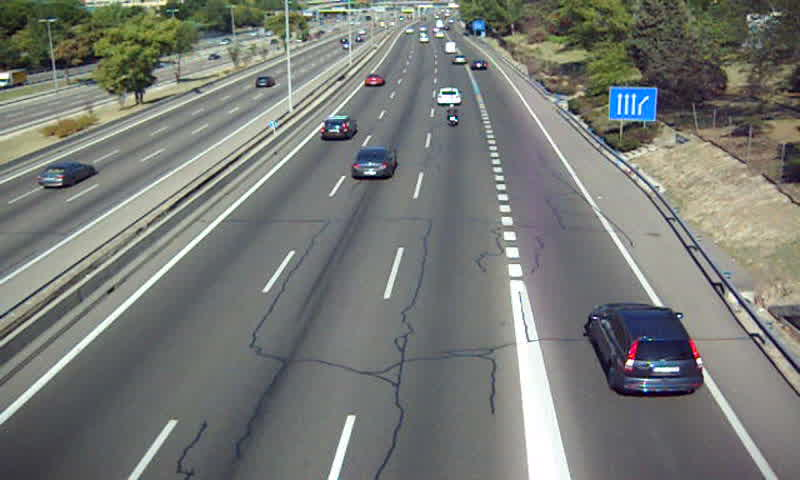car: (589, 302, 705, 394), (351, 147, 396, 179), (320, 116, 355, 139), (436, 87, 462, 106), (363, 74, 383, 88)
motorcycle: (444, 103, 461, 127)
